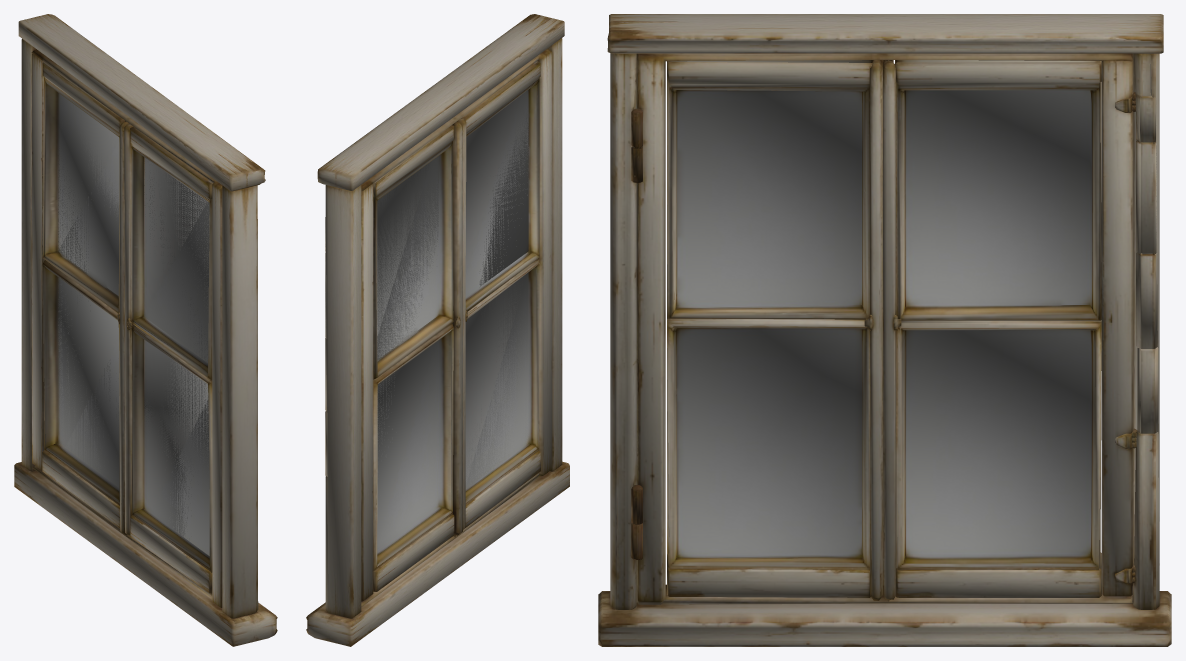
3 views of the same model, side by side, from view 1: azimuth 30°, elevation 25°; view 2: azimuth 150°, elevation 25°; view 3: azimuth 270°, elevation 25° (orthographic). The views are drawn at different scales.
Visible parts, largest first — view 1: tripo_node_a77161bf-bf8a-42e8-8aee-4de7f6006204; view 2: tripo_node_a77161bf-bf8a-42e8-8aee-4de7f6006204; view 3: tripo_node_a77161bf-bf8a-42e8-8aee-4de7f6006204.
Part boxes in pixels (x1,y1,x2,y2): tripo_node_a77161bf-bf8a-42e8-8aee-4de7f6006204: (14,14,277,646); tripo_node_a77161bf-bf8a-42e8-8aee-4de7f6006204: (306,14,569,646); tripo_node_a77161bf-bf8a-42e8-8aee-4de7f6006204: (598,14,1171,646).
Size of the model in its own units: 0.1074 by 0.998 by 0.8496.
Materials: 1 (1 with a texture image).
